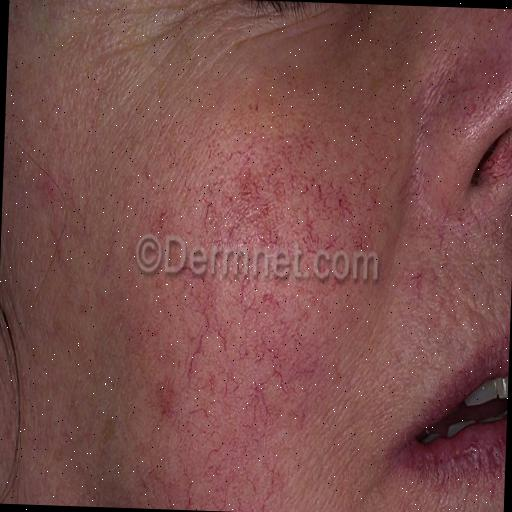Skin_Lesion: (154, 365, 182, 425), (248, 384, 273, 436), (37, 172, 66, 210), (466, 440, 490, 466), (262, 288, 280, 319), (156, 202, 174, 232)
